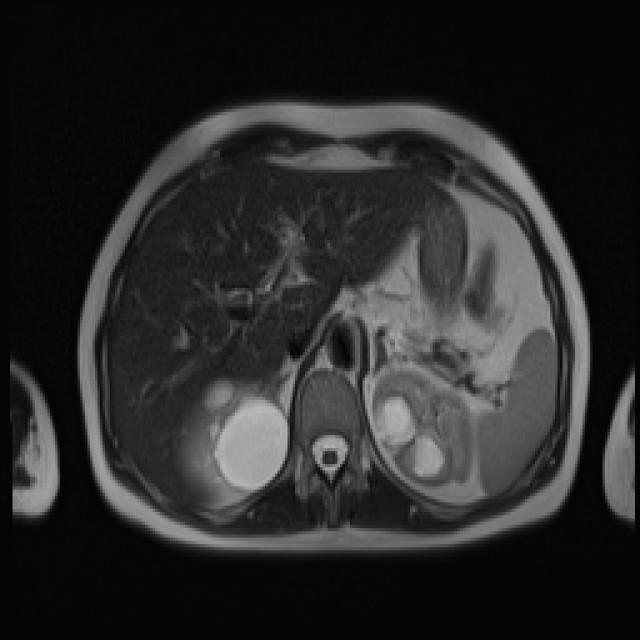sag: (174, 376, 291, 503)
sol: (369, 366, 474, 488)
